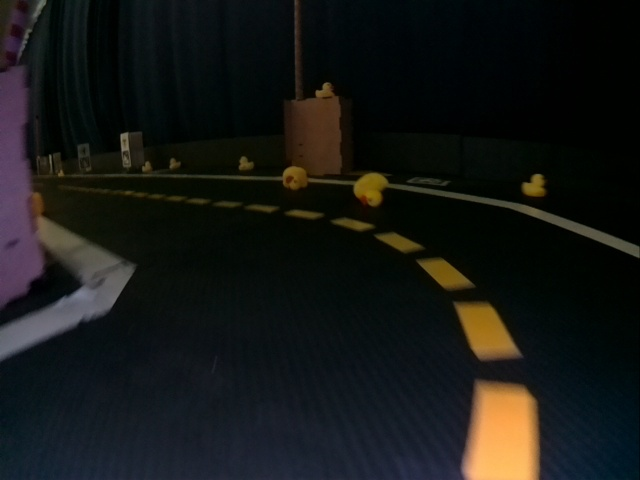Duckie: (353, 174, 389, 207), (523, 174, 546, 196), (283, 167, 306, 189), (315, 83, 334, 97), (238, 156, 254, 170), (170, 158, 180, 169), (142, 163, 151, 172), (56, 171, 65, 177)
QR code: (409, 177, 451, 187)
